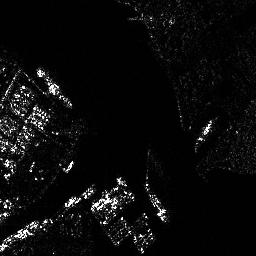ship: (35, 66, 72, 108), (143, 181, 170, 223), (64, 183, 98, 210), (193, 116, 216, 153)
